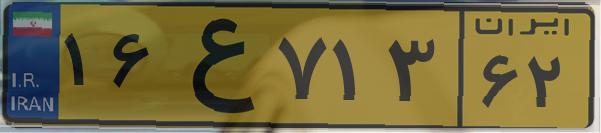1: (330, 28, 385, 110), (57, 26, 110, 100)
2: (525, 38, 570, 115)
3: (385, 28, 445, 110)
6: (475, 38, 525, 113), (110, 28, 158, 98)
7: (270, 28, 330, 110)
ع: (158, 12, 270, 120)
